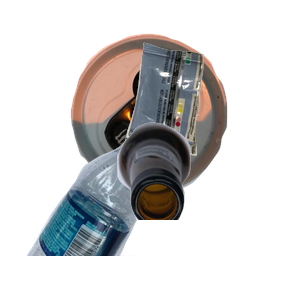glass: (115, 120, 300, 300)
metal: (68, 31, 288, 211)
plastic: (24, 120, 182, 300)
trash: (124, 40, 300, 188)
